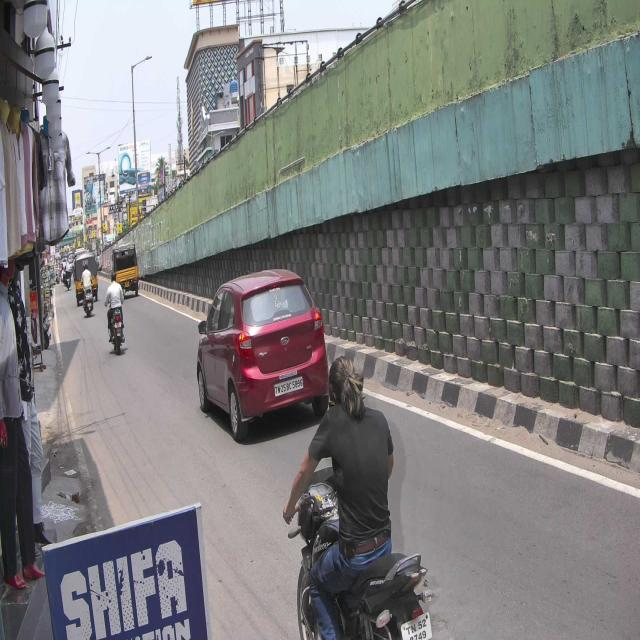single_rider: (283, 351, 434, 640)
